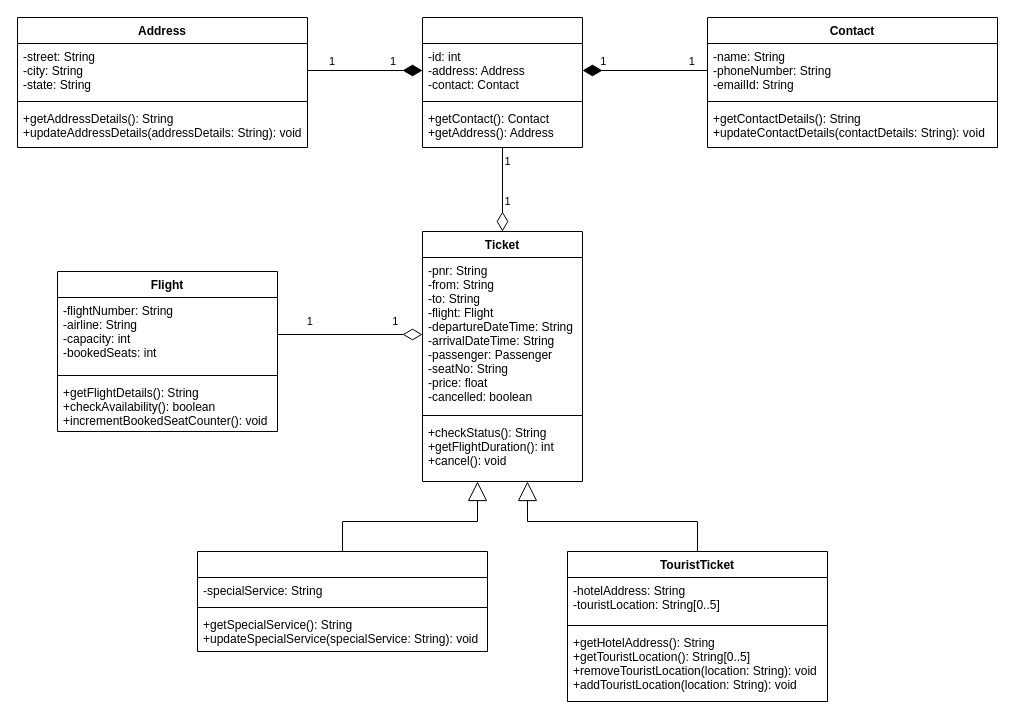
Image size: 1015x722. Some labels were removed from this diagram. Here are the shapes that lost their labels. From the top down, the box of each, then its label:
(422, 16, 582, 148): Passenger
(196, 550, 488, 652): RegularTicket
